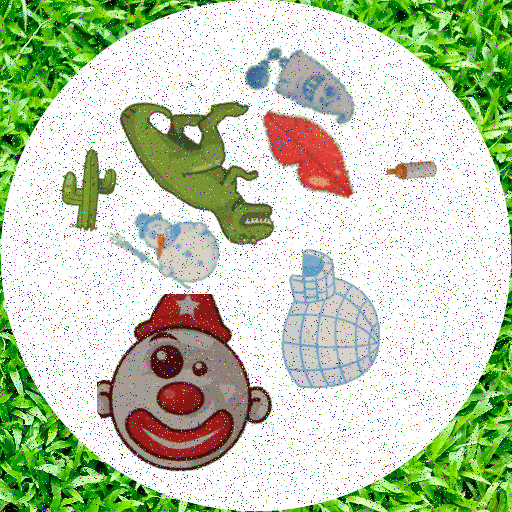bottle_icon: (386, 144, 438, 196)
cactus_icon: (43, 148, 130, 235)
clown_icon: (97, 294, 279, 476)
dino_icon: (101, 84, 276, 259)
ghost_icon: (244, 27, 364, 147)
igloo_icon: (249, 244, 396, 391)
lips_icon: (254, 90, 373, 209)
snowman_icon: (108, 194, 219, 305)
